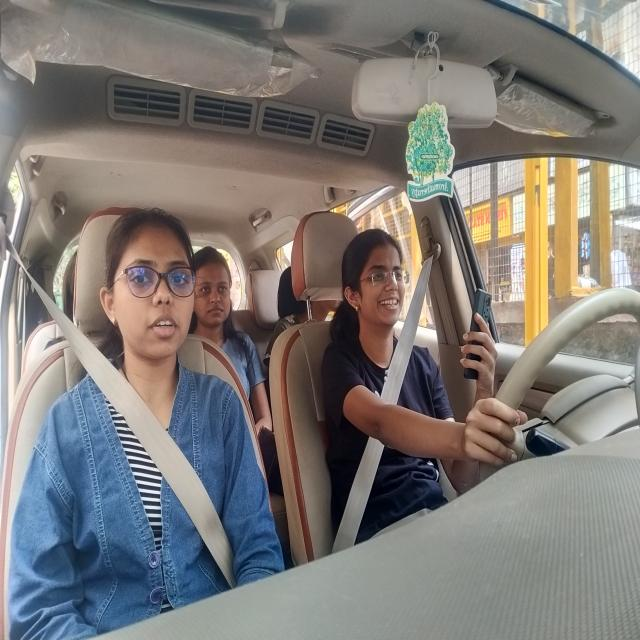mobile: (462, 283, 494, 381)
person: (96, 205, 195, 374), (338, 225, 409, 341), (188, 236, 236, 340)
